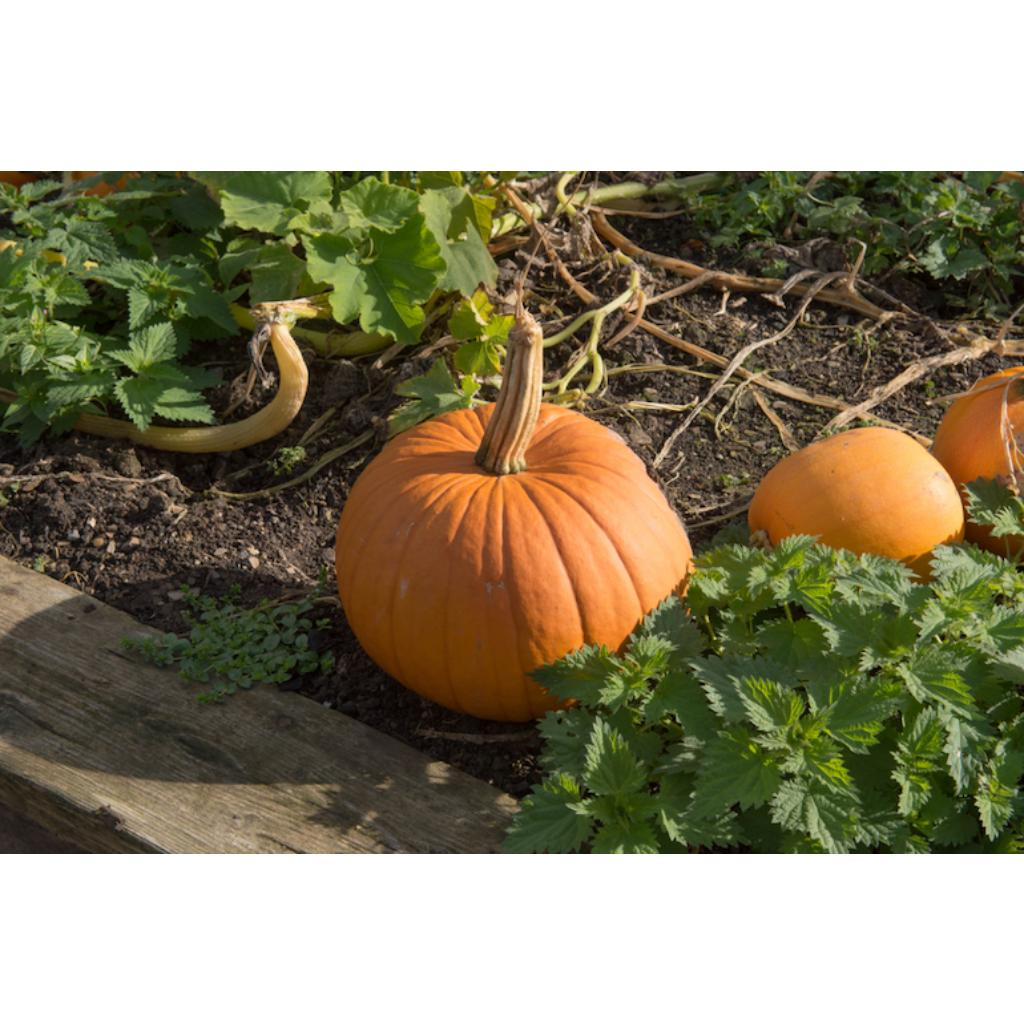pumpkin: (336, 304, 692, 721), (748, 426, 964, 582), (932, 366, 1024, 493), (966, 524, 1016, 554)
